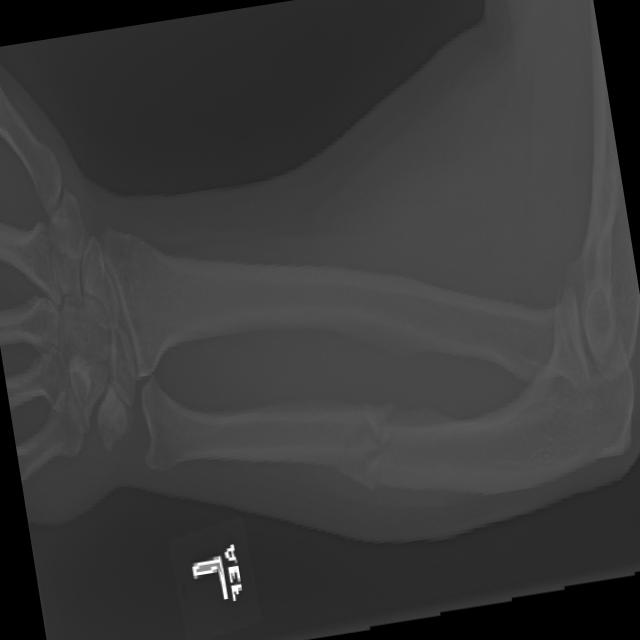forearm fracture: (314, 339, 447, 543)
